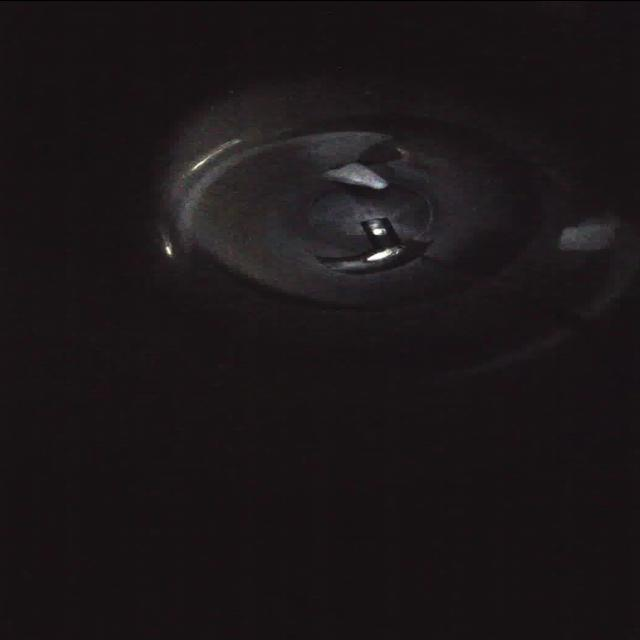impurity: (314, 157, 391, 195)
